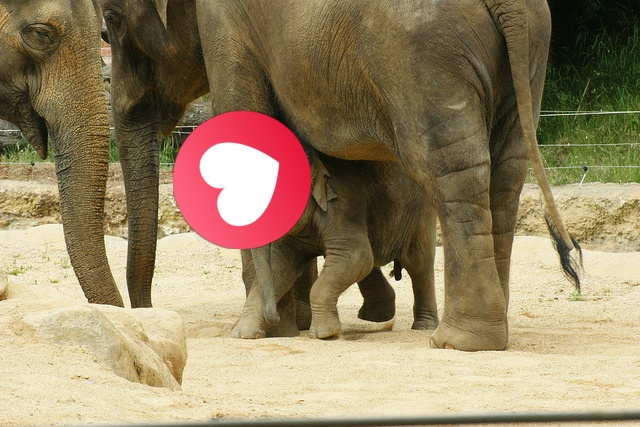love: (173, 111, 311, 249)
